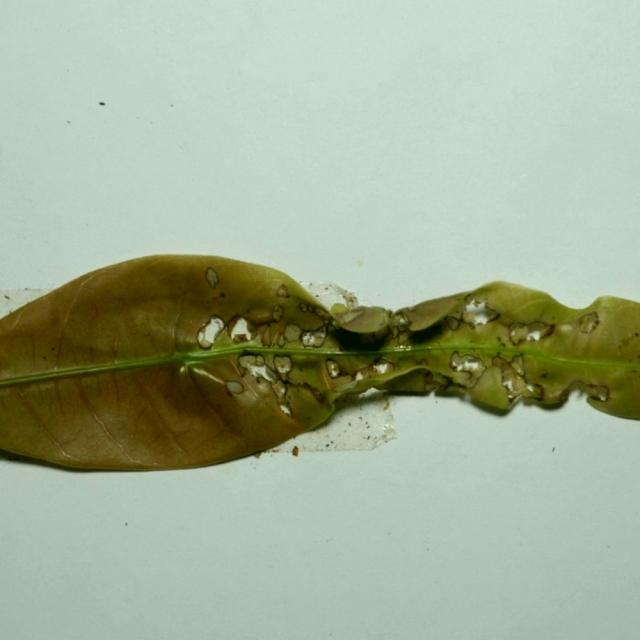Anthracnose: (17, 362, 221, 464), (24, 266, 199, 368), (291, 299, 446, 404), (527, 291, 638, 417), (54, 254, 298, 309), (54, 319, 264, 377), (210, 266, 354, 342), (230, 346, 323, 416), (459, 283, 578, 327), (80, 380, 141, 462), (187, 360, 257, 425), (201, 302, 295, 350), (522, 362, 619, 408), (567, 300, 635, 358), (390, 293, 478, 335), (105, 301, 170, 351), (277, 373, 332, 429), (502, 348, 630, 372), (166, 311, 223, 362), (253, 276, 311, 320), (441, 298, 498, 333), (492, 354, 535, 399), (466, 369, 511, 410), (300, 327, 335, 377), (448, 351, 486, 385), (283, 361, 323, 393), (507, 319, 554, 346), (586, 295, 631, 321), (349, 357, 394, 382), (292, 380, 325, 408), (323, 361, 356, 389), (265, 310, 289, 344), (299, 323, 329, 348), (535, 384, 569, 403), (317, 360, 334, 393), (391, 311, 412, 336), (423, 373, 449, 393), (476, 305, 503, 324), (282, 323, 303, 343), (491, 355, 513, 373), (509, 354, 526, 376), (509, 325, 528, 344), (459, 359, 483, 374), (455, 366, 475, 383), (371, 359, 392, 375), (205, 267, 219, 290), (528, 383, 546, 400), (272, 381, 288, 399), (449, 352, 464, 371), (444, 315, 461, 331), (503, 377, 519, 393), (461, 311, 480, 324), (302, 332, 316, 346), (279, 403, 292, 417), (391, 325, 402, 340), (467, 299, 483, 308), (277, 334, 286, 347), (416, 358, 429, 367), (354, 371, 365, 381), (464, 293, 475, 303), (526, 384, 537, 394), (506, 390, 516, 400)
Mango: (0, 255, 639, 476)
